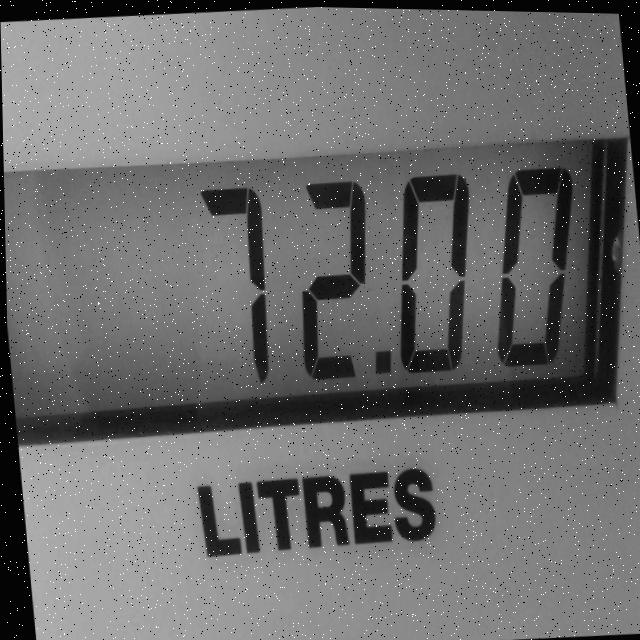.: (359, 335, 394, 389)
0: (467, 146, 590, 370), (374, 153, 490, 370)
2: (279, 165, 381, 388)
7: (190, 166, 290, 413)
